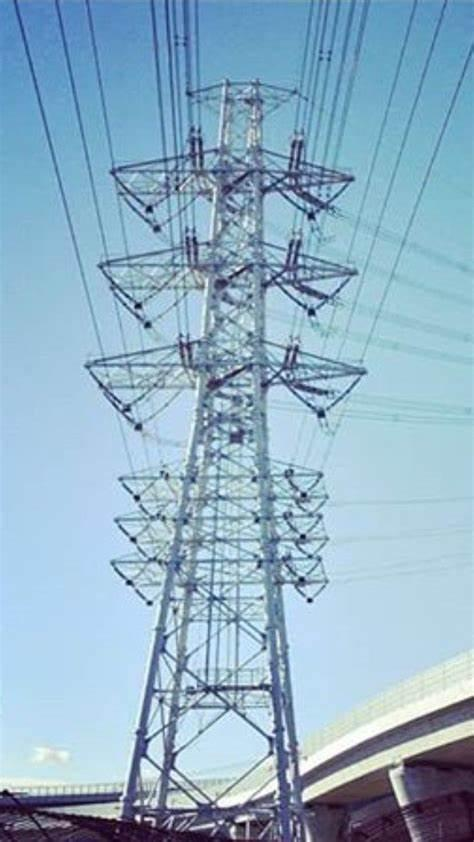power_tower: (84, 64, 377, 842)
